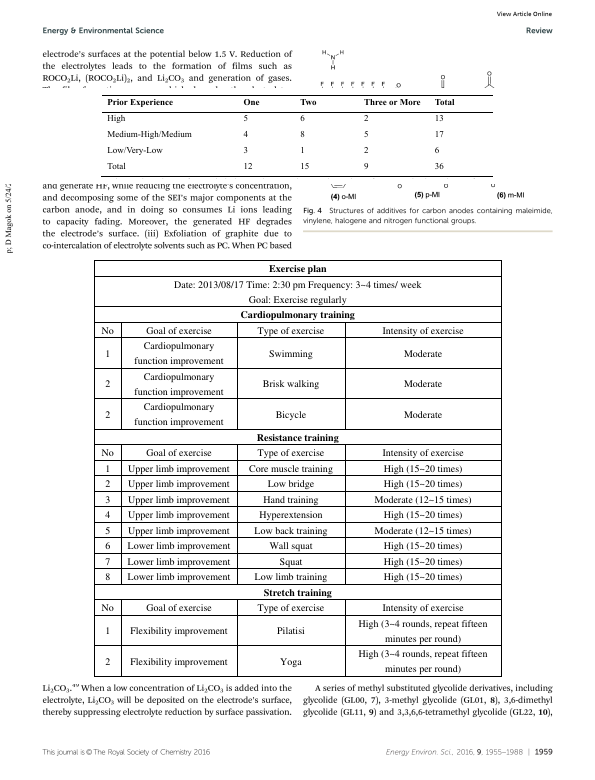bordered: (93, 258, 501, 676)
borderless: (101, 93, 493, 176)
cell: (172, 278, 422, 306), (357, 647, 488, 676), (357, 617, 488, 645), (133, 339, 224, 368), (133, 370, 224, 398), (133, 401, 224, 429), (239, 308, 355, 322), (126, 539, 231, 553), (126, 477, 230, 491), (126, 555, 231, 568), (126, 571, 231, 584), (126, 462, 230, 475), (126, 493, 230, 506), (126, 509, 230, 522), (126, 524, 230, 537), (373, 493, 472, 506), (373, 524, 472, 537), (129, 625, 228, 638), (129, 655, 228, 668), (381, 446, 464, 460), (382, 477, 463, 491), (382, 539, 463, 553), (247, 462, 333, 475), (255, 431, 339, 444), (381, 324, 464, 337), (381, 602, 464, 615), (382, 462, 463, 475), (382, 509, 463, 522), (382, 555, 463, 568), (382, 571, 463, 584), (253, 524, 328, 537), (253, 571, 328, 584), (256, 446, 325, 460), (145, 446, 212, 460), (262, 586, 332, 599), (256, 324, 325, 337), (256, 602, 325, 615), (145, 324, 212, 337), (145, 602, 212, 615), (106, 130, 192, 140), (258, 509, 323, 522), (267, 262, 327, 276), (261, 377, 320, 391), (262, 493, 319, 506), (266, 477, 315, 491), (106, 97, 173, 107), (268, 539, 313, 553), (267, 347, 313, 360), (362, 97, 421, 107), (402, 377, 443, 391), (106, 146, 163, 156), (402, 347, 443, 360), (402, 408, 443, 421), (274, 408, 307, 421), (275, 625, 305, 638), (278, 555, 303, 568), (278, 655, 302, 668), (433, 97, 455, 107), (106, 114, 126, 124), (106, 162, 126, 172), (100, 446, 114, 460), (100, 324, 114, 337), (100, 602, 114, 615), (242, 97, 260, 107), (299, 97, 317, 107), (433, 114, 444, 124), (433, 130, 444, 140), (242, 162, 253, 172), (299, 162, 310, 172), (433, 162, 444, 172), (104, 377, 111, 391), (104, 477, 111, 491), (104, 539, 111, 553), (104, 347, 111, 360), (104, 408, 111, 421), (104, 462, 111, 475), (104, 493, 111, 506), (104, 509, 111, 522), (104, 524, 111, 537), (104, 555, 111, 568), (104, 571, 111, 584), (104, 625, 111, 638), (104, 655, 111, 668), (362, 114, 369, 124), (362, 130, 369, 140), (362, 146, 369, 156), (433, 146, 440, 156), (362, 162, 369, 172), (242, 114, 248, 124), (299, 114, 305, 124), (242, 130, 248, 140), (299, 130, 305, 140), (242, 146, 248, 156), (299, 146, 305, 156)
